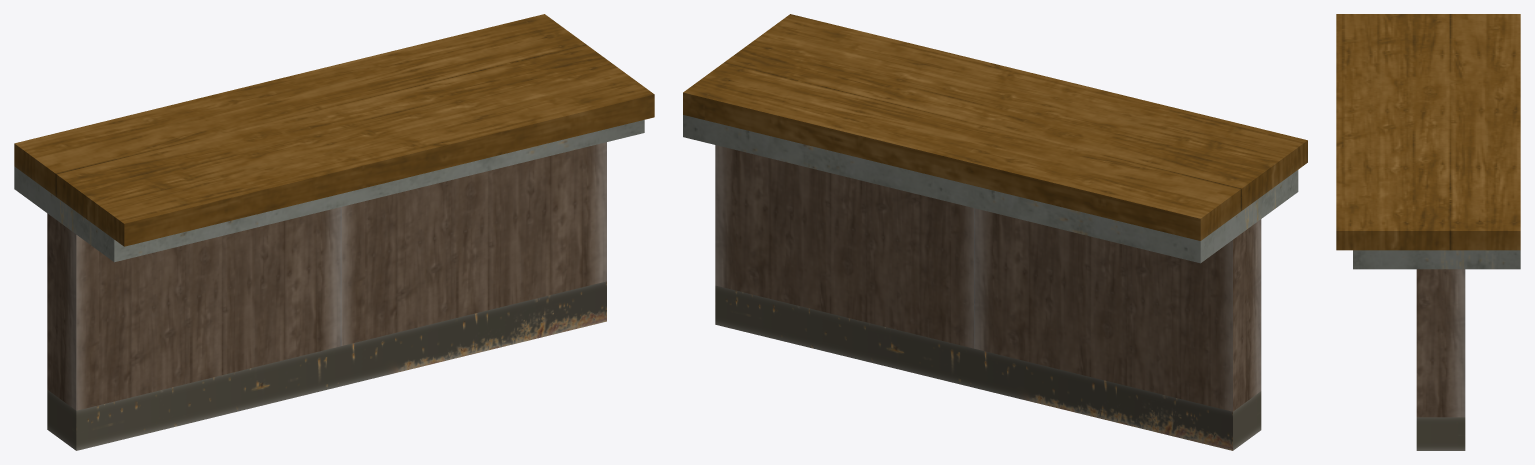
File: tablecounter02a.fbx
The picture shows the model from 3 angles, left to right: view 1: azimuth 30°, elevation 25°; view 2: azimuth 150°, elevation 25°; view 3: azimuth 270°, elevation 25°; orthographic projection. The views are drawn at different scales.
Visible parts, largest first — view 1: tablecounter02a; view 2: tablecounter02a; view 3: tablecounter02a.
Boxes of the visible parts, <box> form: tablecounter02a: <box>14,14,654,450</box>; tablecounter02a: <box>683,14,1307,450</box>; tablecounter02a: <box>1336,14,1520,450</box>.
Size of the model in its own units: 185 by 87.54 by 66.56.
